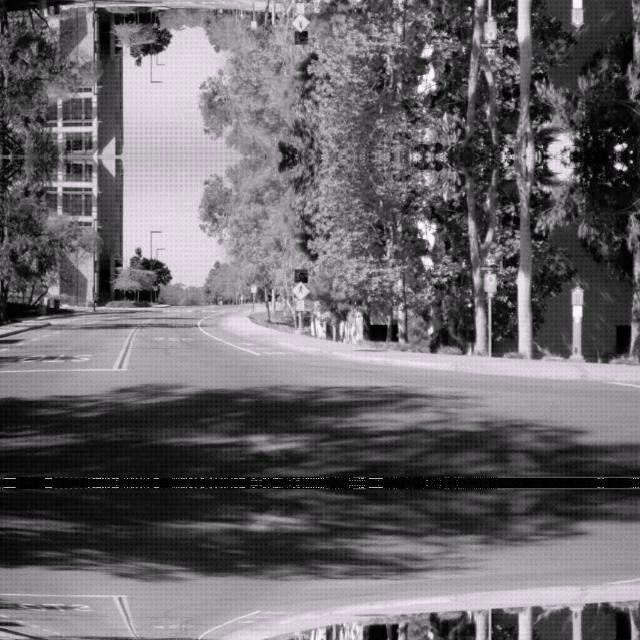pedestrianCrossing: (290, 279, 310, 299), (290, 13, 310, 33)
